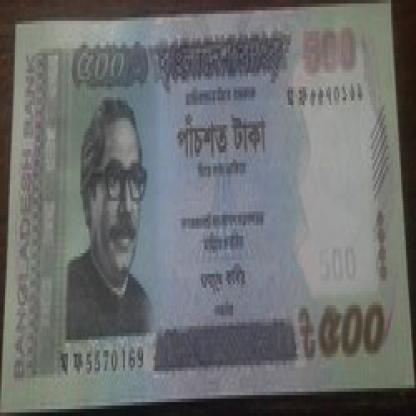500 taka: (160, 111, 276, 170), (58, 42, 143, 90)
currency: (7, 21, 411, 409)
